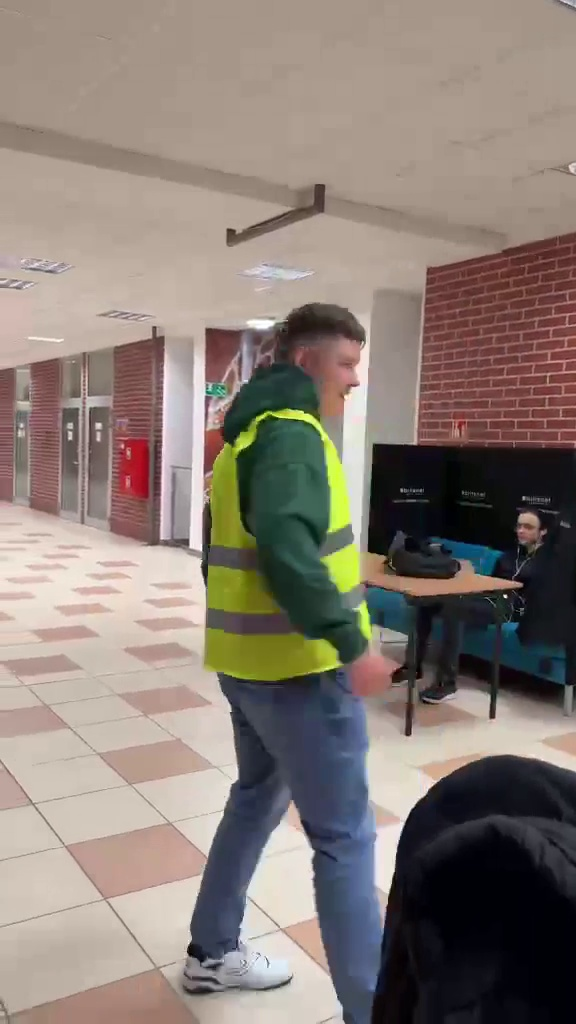no vest: (414, 497, 559, 705)
vest: (189, 294, 401, 1003)
